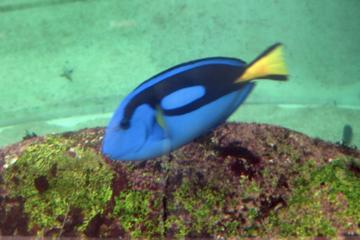Acanthuridae -Surgeonfishes-: (101, 39, 288, 162)
